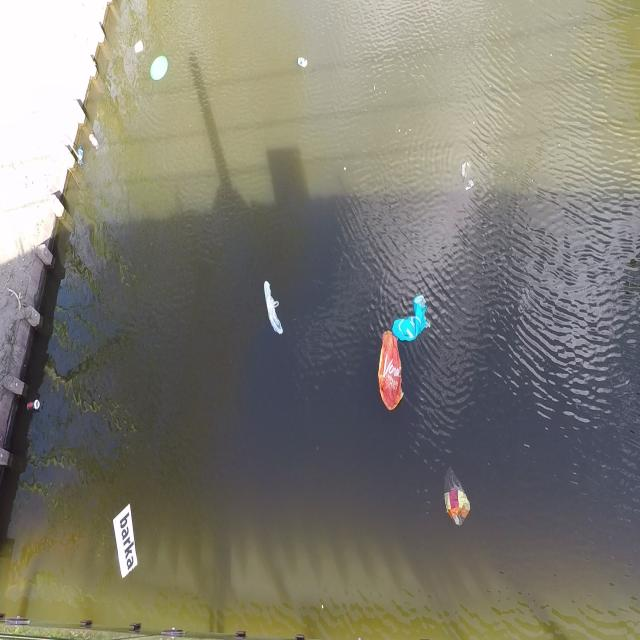Autre plastique: (146, 51, 172, 83)
Bouteille plastique: (76, 142, 87, 169)
Non plastique: (295, 52, 311, 71)
Sac plastique: (373, 326, 408, 417), (442, 462, 476, 536), (392, 291, 436, 339), (262, 276, 287, 341)
